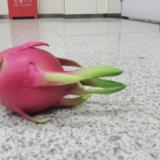pitaya: (1, 41, 119, 119)
